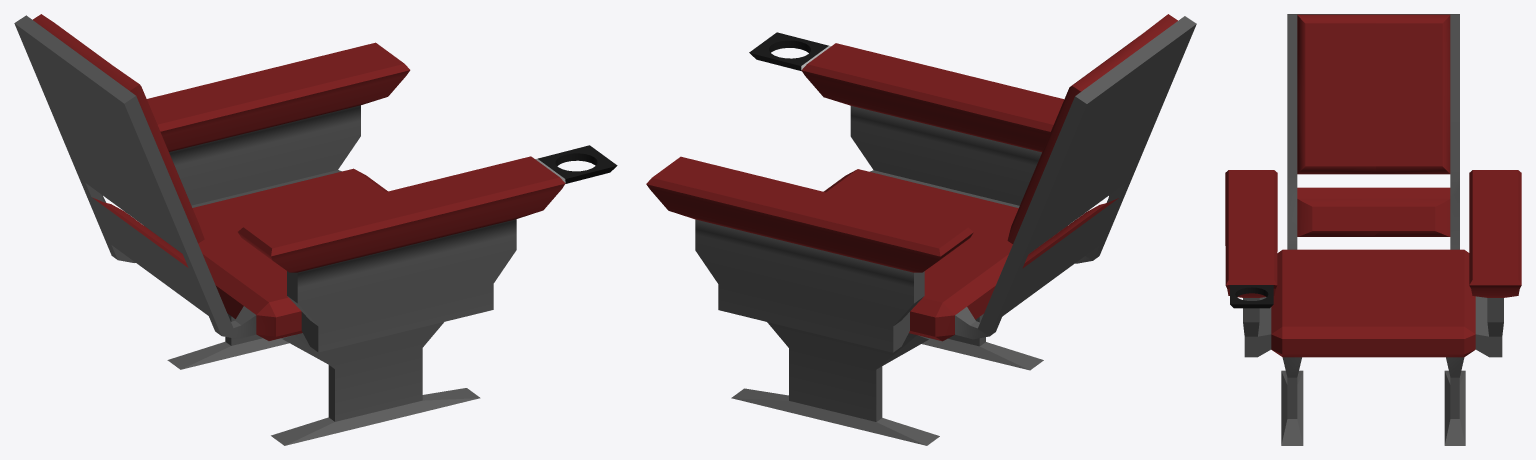
File: Chair.fbx
3 renders of one model, left to right at view 1: azimuth 30°, elevation 25°; view 2: azimuth 150°, elevation 25°; view 3: azimuth 270°, elevation 25°, orthographic. The views are drawn at different scales.
Parts seen in each view (by area): view 1: pCube2; view 2: pCube2; view 3: pCube2.
Part boxes in pixels (x1=…): pCube2: x1=14, y1=14, x2=617, y2=445; pCube2: x1=646, y1=14, x2=1196, y2=445; pCube2: x1=1225, y1=14, x2=1521, y2=445.
Bounding box in the file's own units: 3.19 × 2.58 × 2.28.
